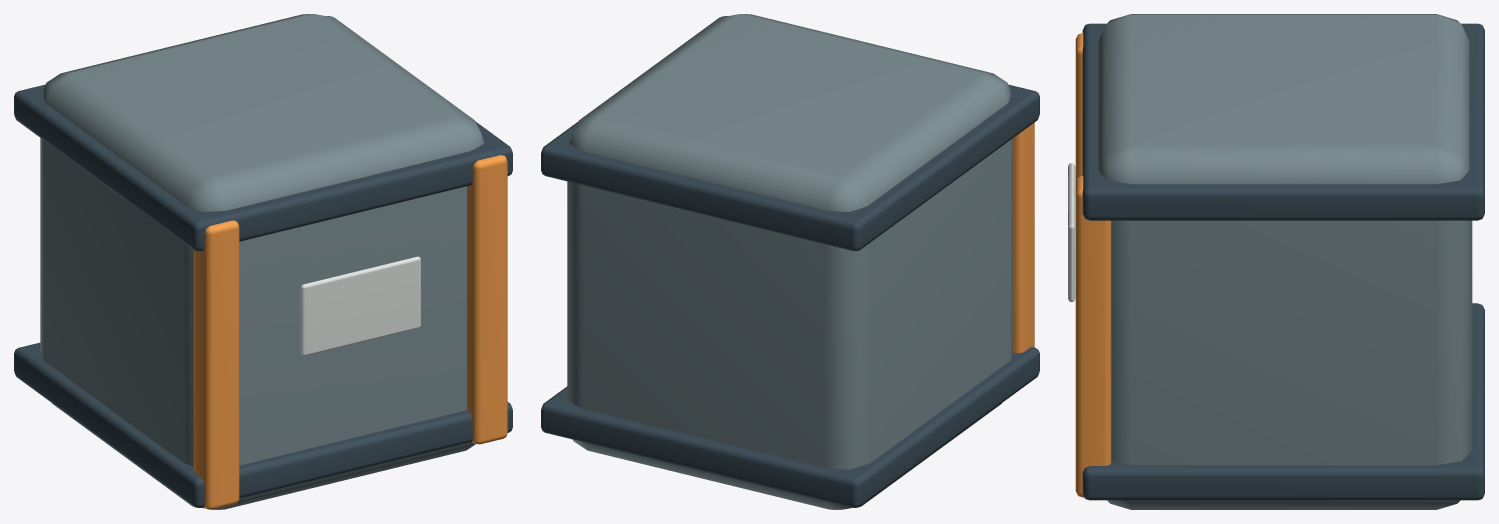
The model's file is crate.glb.
3 views of the same model, side by side, from view 1: azimuth 30°, elevation 25°; view 2: azimuth 150°, elevation 25°; view 3: azimuth 270°, elevation 25° (orthographic). The views are drawn at different scales.
Visible parts, largest first — view 1: crate; view 2: crate; view 3: crate.
Part boxes in pixels (x1,y1,x2,y2): crate: [14, 14, 512, 509]; crate: [541, 14, 1039, 509]; crate: [1068, 14, 1484, 509].
Bounding box in the file's own units: 1.12 × 1.12 × 1.16.
